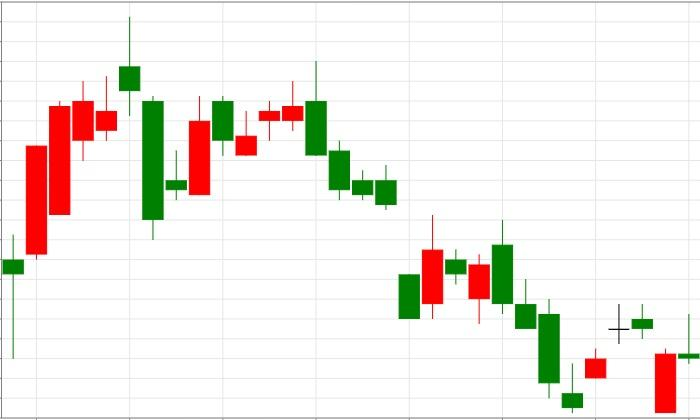bearish_engulfing_fall: (141, 61, 328, 239)
